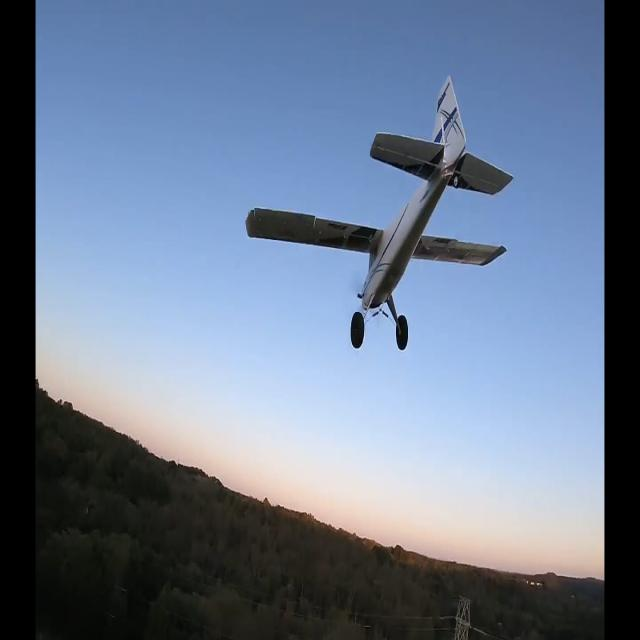iha: (244, 70, 515, 355)
